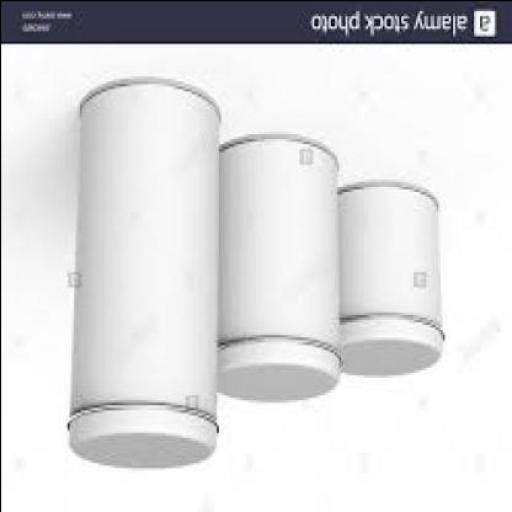metal: (68, 78, 224, 472), (218, 138, 343, 401), (340, 181, 446, 379)
